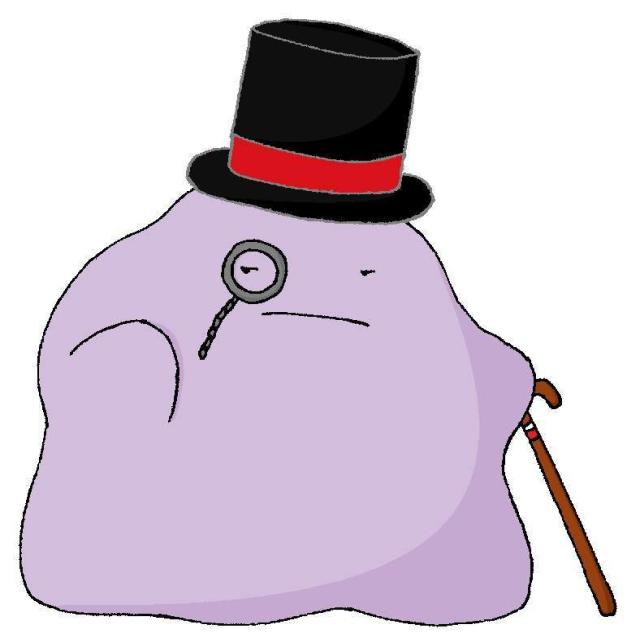Ditto: (25, 203, 531, 620)
